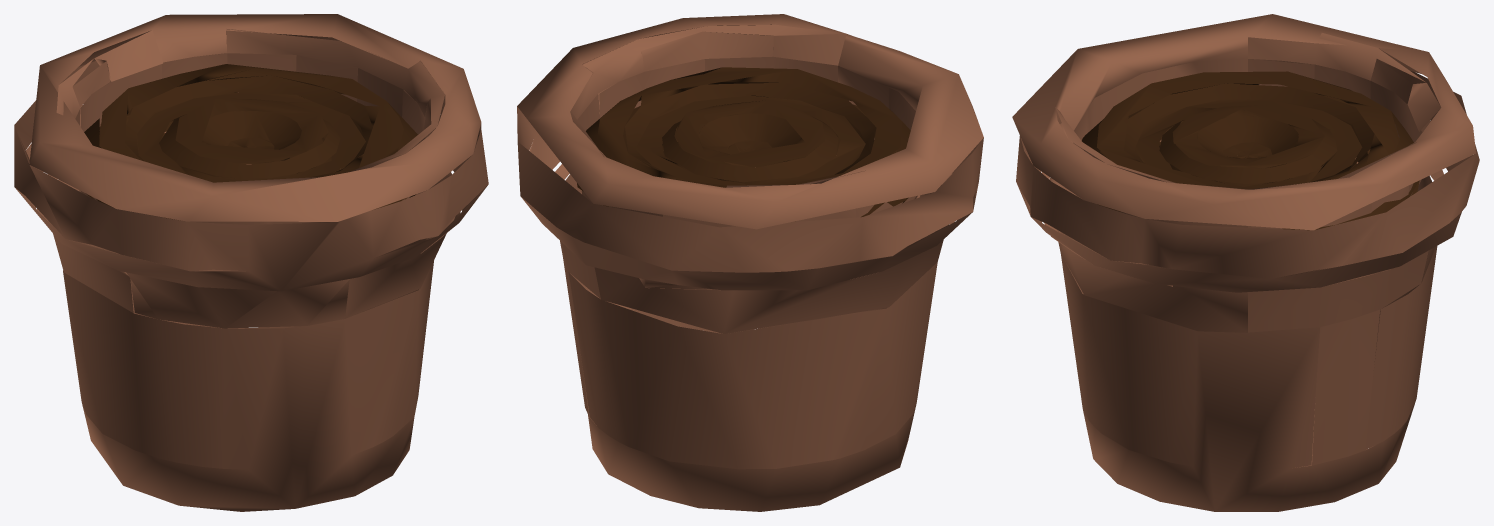
File: clay_pot.glb
3 renders of one model, left to right at view 1: azimuth 30°, elevation 25°; view 2: azimuth 150°, elevation 25°; view 3: azimuth 270°, elevation 25°, orthographic.
Visible parts, largest first — view 1: clay_pot; view 2: clay_pot; view 3: clay_pot.
Boxes of the visible parts, x1,y1,x2,y2 form: clay_pot: (14,14,488,511); clay_pot: (517,14,983,511); clay_pot: (1012,14,1479,511).
Bounding box in the file's own units: 1.34 × 1.09 × 1.34.
